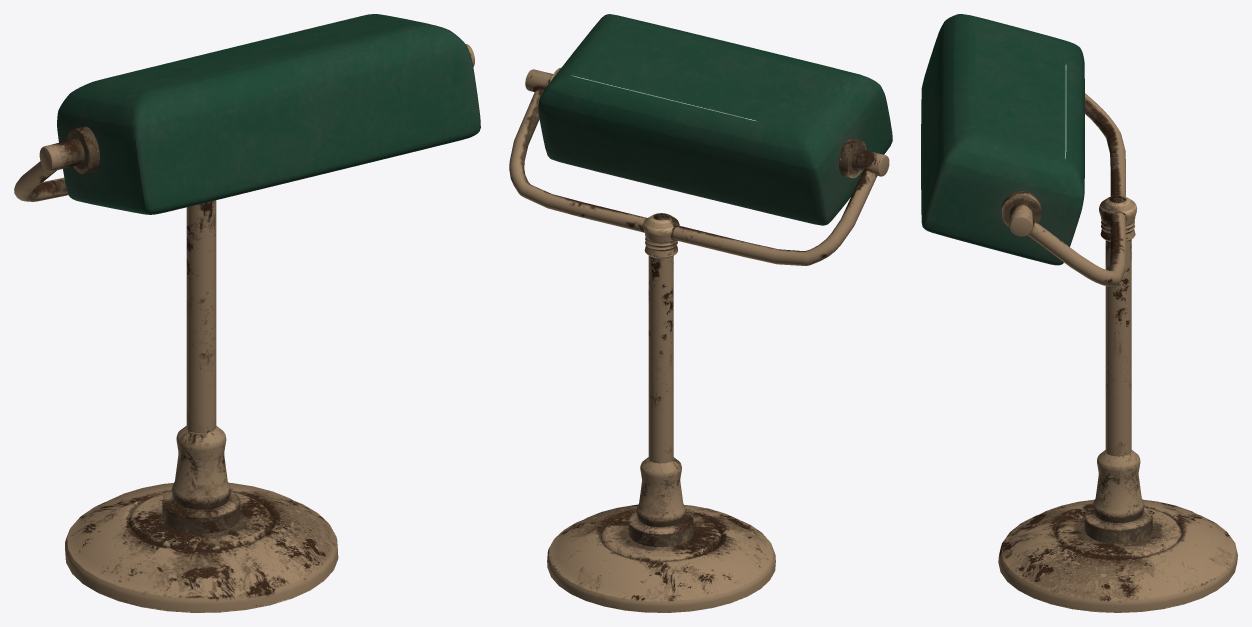
The model's file is desk_lamp_grren.glb.
3 views of the same model, side by side, from view 1: azimuth 30°, elevation 25°; view 2: azimuth 150°, elevation 25°; view 3: azimuth 270°, elevation 25° (orthographic). The views are drawn at different scales.
Visible parts, largest first — view 1: Plane; view 2: Plane; view 3: Plane.
Boxes of the visible parts, bbox=[...] form: Plane: bbox=[14, 14, 480, 612]; Plane: bbox=[509, 14, 892, 612]; Plane: bbox=[921, 14, 1237, 612].
Bounding box in the file's own units: 1.56 × 1.96 × 1.16.
1 material, 1 textured.
